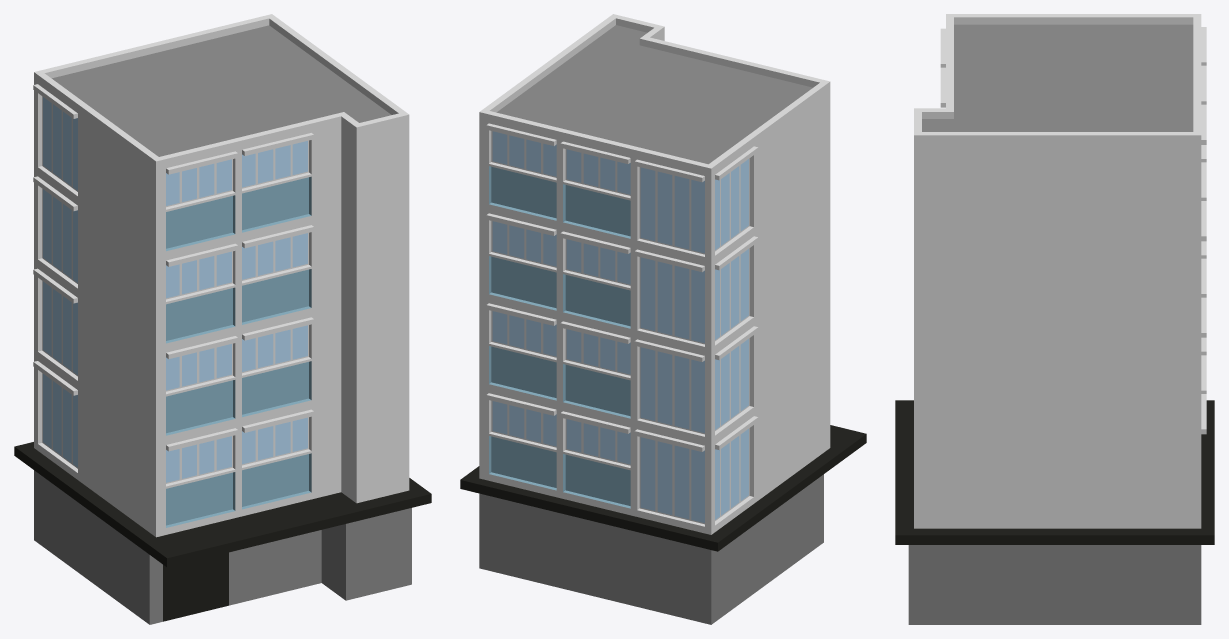
File: building (3).fbx
3 views of the same model, side by side, from view 1: azimuth 30°, elevation 25°; view 2: azimuth 150°, elevation 25°; view 3: azimuth 270°, elevation 25° (orthographic). The views are drawn at different scales.
Parts seen in each view (by area): view 1: Model; view 2: Model; view 3: Model.
Part boxes in pixels (x1,y1,x2,y2): Model: [14, 14, 431, 624]; Model: [460, 14, 866, 624]; Model: [895, 14, 1214, 624].
Bounding box in the file's own units: 120 × 203 × 120.
